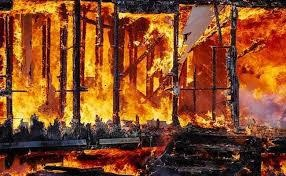fire: (0, 4, 250, 153)
